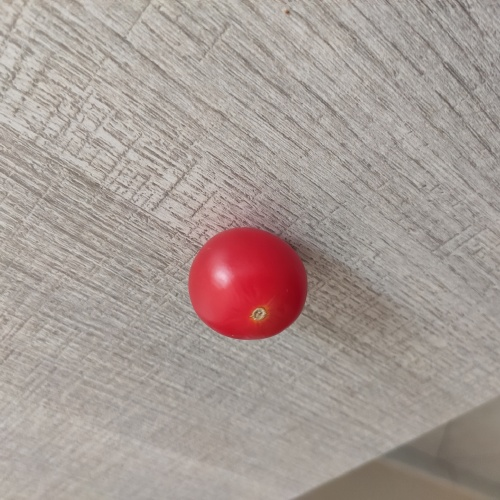pomodoro: (188, 224, 309, 344)
